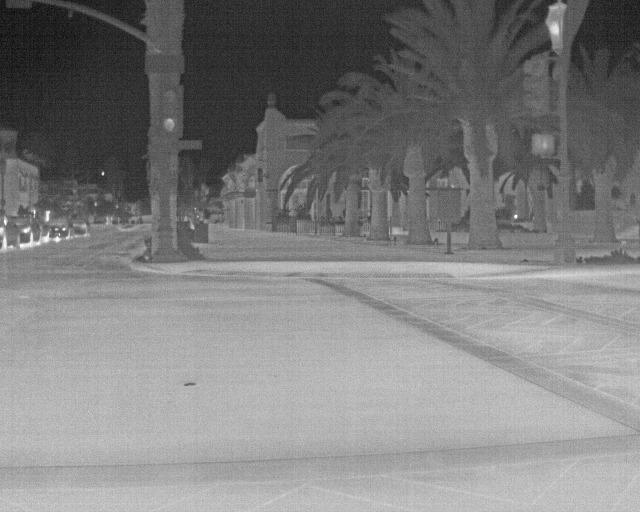car: (10, 216, 41, 247), (0, 209, 20, 251), (46, 218, 71, 240), (70, 218, 91, 238), (33, 217, 49, 242)
light: (523, 60, 544, 108), (164, 90, 177, 135), (532, 133, 554, 156)
sign: (146, 54, 185, 75), (168, 139, 203, 151), (6, 0, 31, 10)
